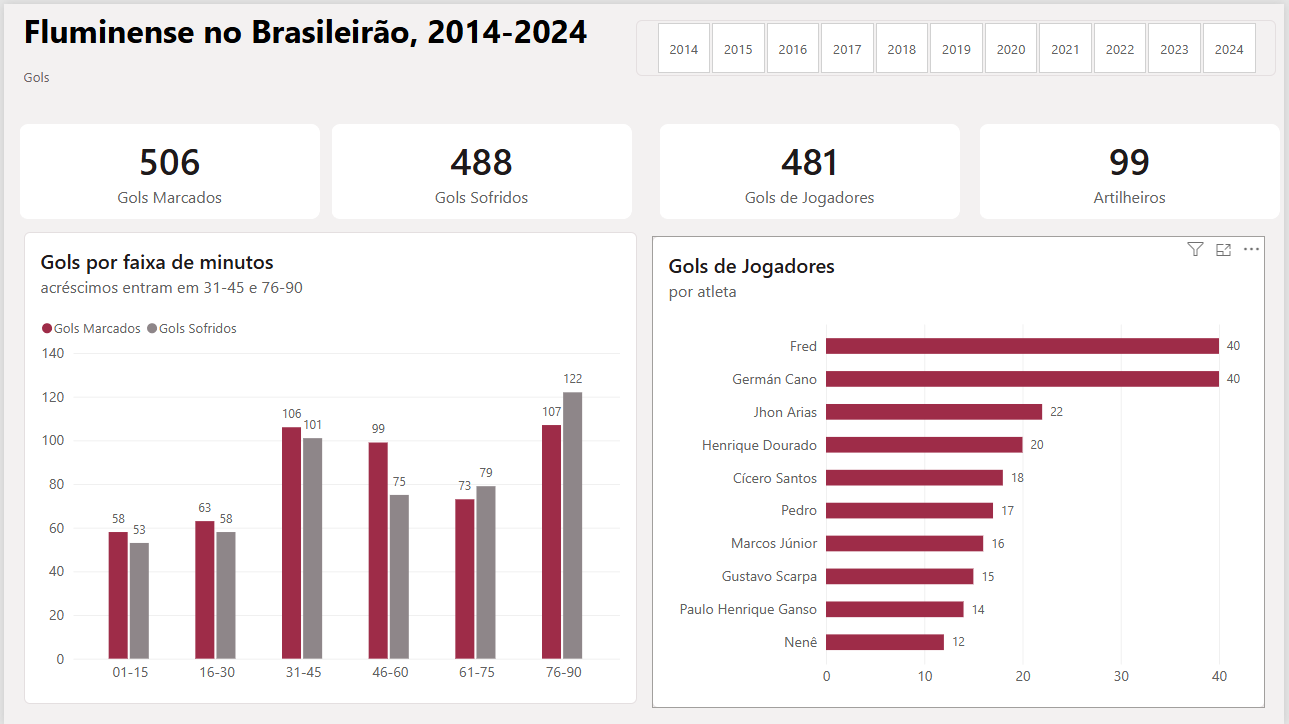

The page's visual inventory and layout, read from the dashboard file:
{"tool":"powerbi","page":{"name":"Gols","canvas":[1280,720],"ordinal":2},"visuals":[{"type":"textbox","box":[16,0,640,112],"z":0},{"type":"slicer","fields":{"Values":["dim_temporada.temporada"]},"box":[632,16,640,56],"z":1000},{"type":"cardVisual","fields":{"Data":["Gols.Gols Marcados"]},"box":[16,120,300,95],"z":2000},{"type":"cardVisual","fields":{"Data":["Medidas.Gols de Jogadores"]},"box":[656,120,300,95],"z":3000},{"type":"cardVisual","fields":{"Data":["Gols.Gols Sofridos"]},"box":[328,120,300,95],"z":4000},{"type":"cardVisual","fields":{"Data":["Medidas.Artilheiros"]},"box":[976,120,300,95],"z":5000},{"type":"clusteredColumnChart","title":"Gols por faixa de minutos","fields":{"Category":["Gols.faixa"],"Y":["Gols.Gols Marcados","Gols.Gols Sofridos"]},"box":[20,228,613,472],"z":6000},{"type":"clusteredBarChart","fields":{"Category":["Gols.atleta"],"Y":["Medidas.Gols de Jogadores"]},"box":[648,232,613,472],"z":7000}]}

Visuals, with their boxes in screenshot pixels (x1, y1, x2, y2), scaled from the page's 1280x720 canvas onto the 1289x724 screenshot:
textbox: (x1=16, y1=0, x2=661, y2=113)
slicer - dim_temporada.temporada: (x1=636, y1=16, x2=1281, y2=72)
cardVisual - Gols.Gols Marcados: (x1=16, y1=121, x2=318, y2=216)
cardVisual - Medidas.Gols de Jogadores: (x1=661, y1=121, x2=963, y2=216)
cardVisual - Gols.Gols Sofridos: (x1=330, y1=121, x2=632, y2=216)
cardVisual - Medidas.Artilheiros: (x1=983, y1=121, x2=1285, y2=216)
"Gols por faixa de minutos" clusteredColumnChart: (x1=20, y1=229, x2=637, y2=704)
clusteredBarChart - Gols.atleta x Medidas.Gols de Jogadores: (x1=653, y1=233, x2=1270, y2=708)
